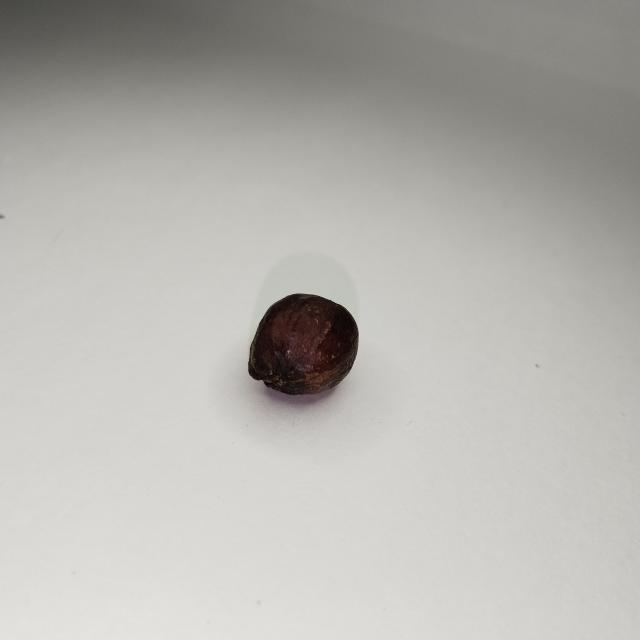Danado: (248, 293, 358, 394)
